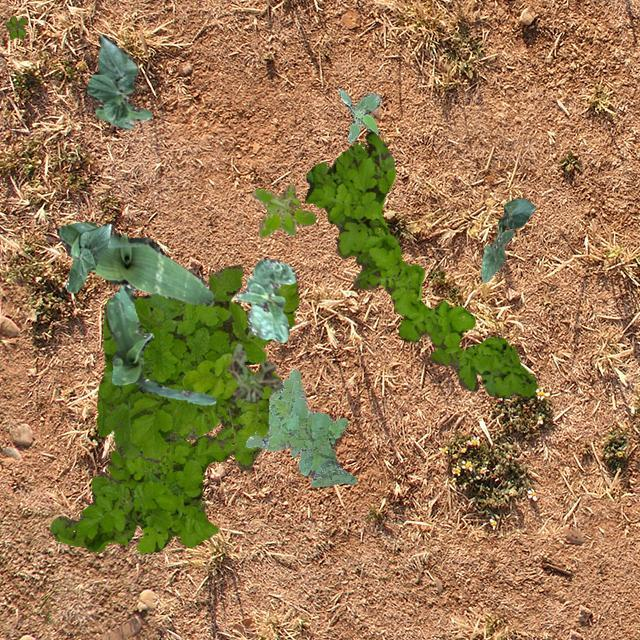crop: (104, 284, 214, 404), (56, 220, 212, 304), (86, 34, 150, 128), (234, 258, 296, 342), (480, 198, 534, 282), (64, 222, 112, 292)
weed: (304, 130, 536, 397), (95, 264, 298, 470), (49, 412, 230, 552), (244, 368, 356, 487), (250, 182, 314, 236), (226, 342, 282, 402), (338, 88, 380, 142), (4, 14, 26, 38)
